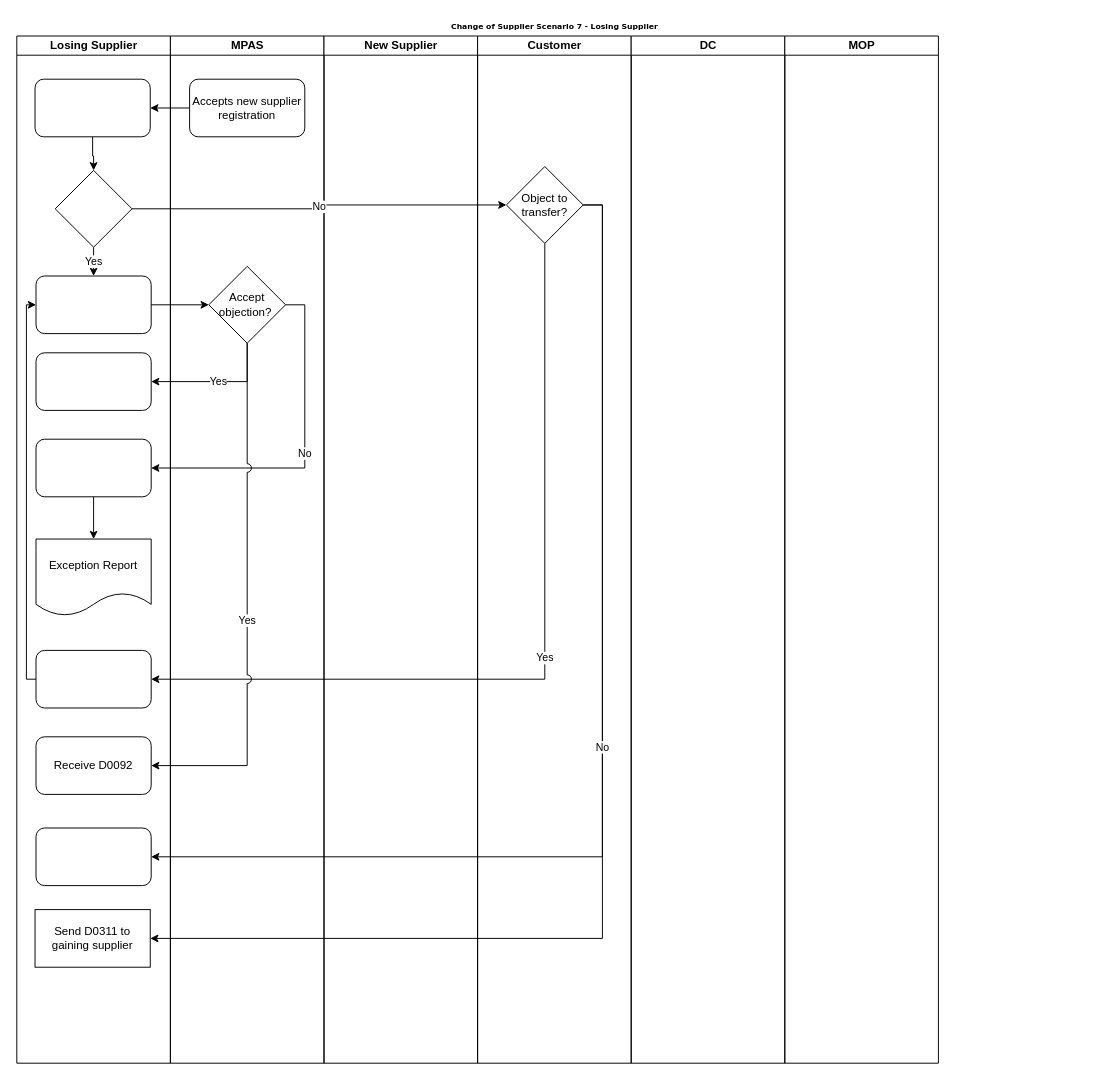
Image size: 1109x1080. Some labels were removed from this diagram. Each missing label, with the centre of its shape:
"Generate D0151" belongs at (x=93, y=856).
"Generate D0305" belongs at (x=93, y=678).
"Process D0066" belongs at (x=93, y=467).
"Raise objection?" belongs at (x=93, y=208).
"Receive D0065" belongs at (x=93, y=381).
"Received D0058" belongs at (x=92, y=107).
"Send D0064" belongs at (x=93, y=304).
